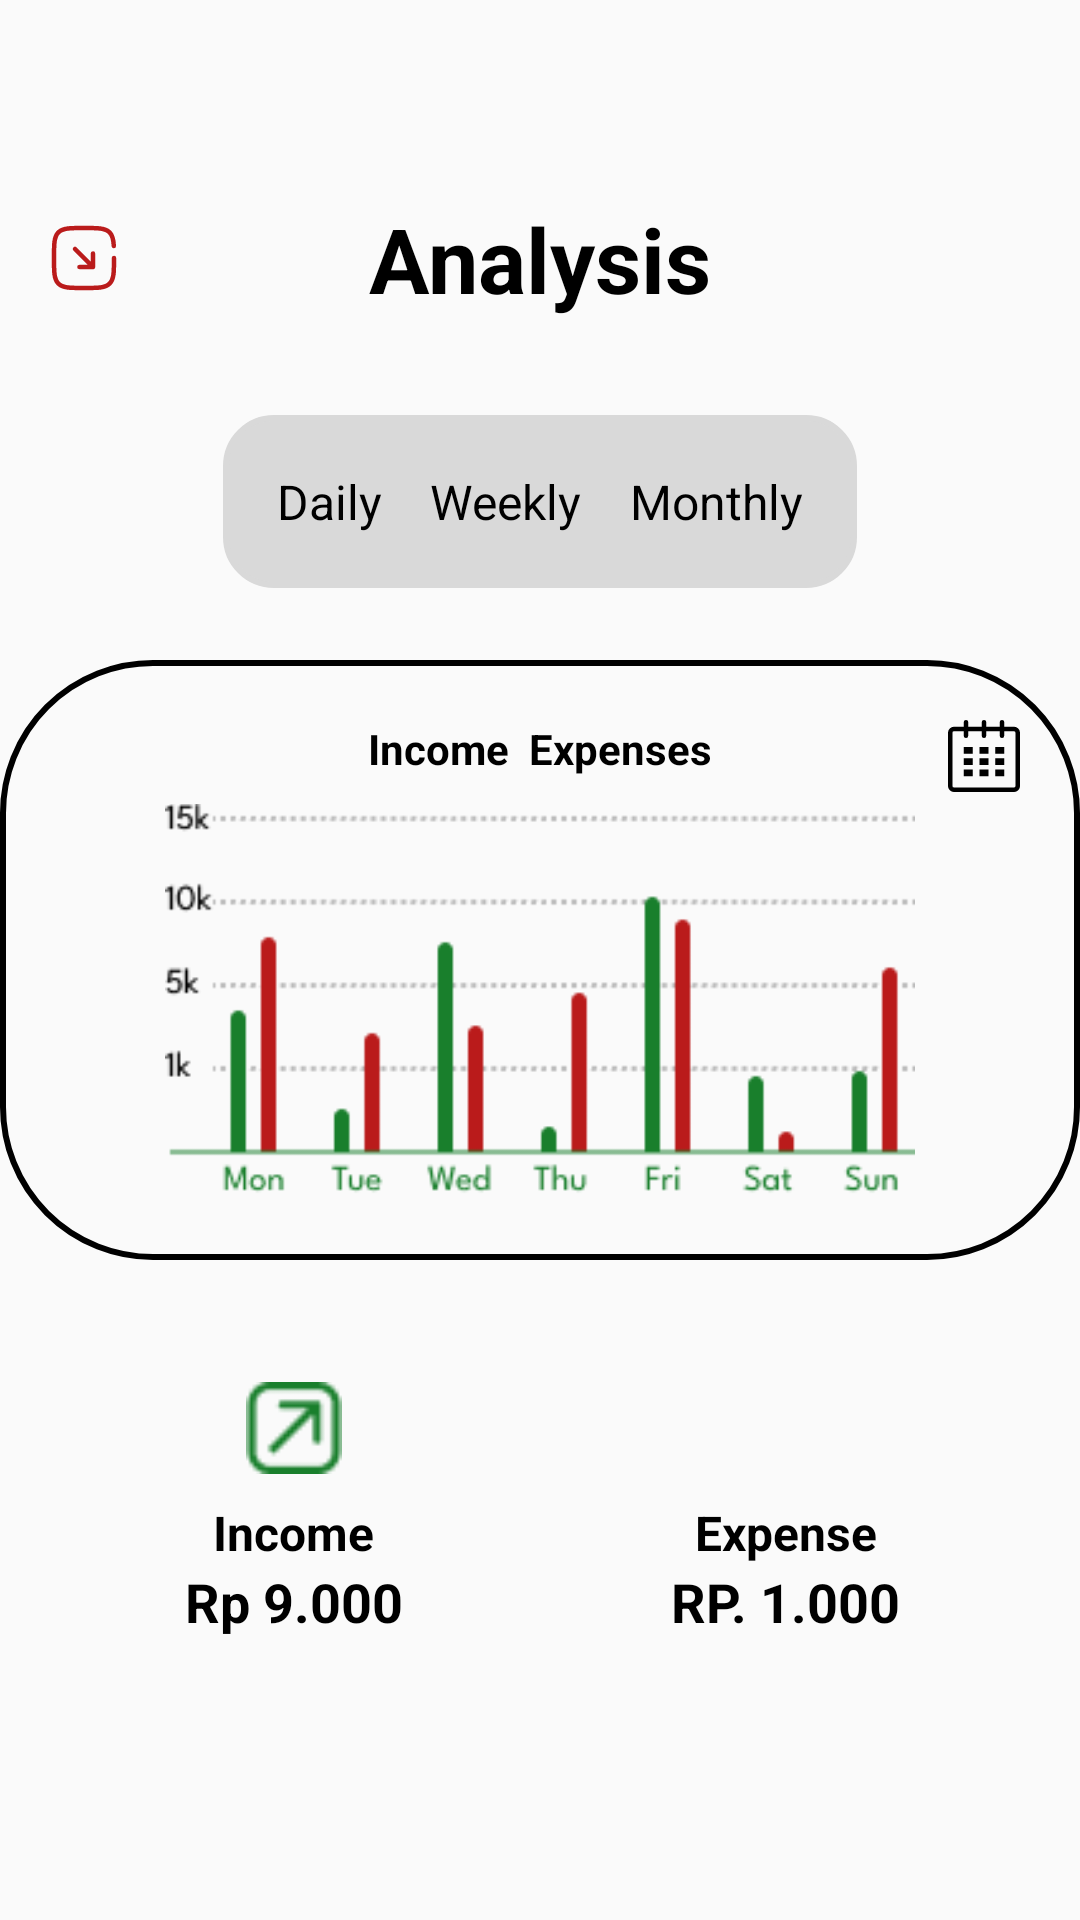

Point at icon controls on the screen. Image size 1080*1920, points as (x=x, y=y).
Calendar Icon: (x=984, y=756)
